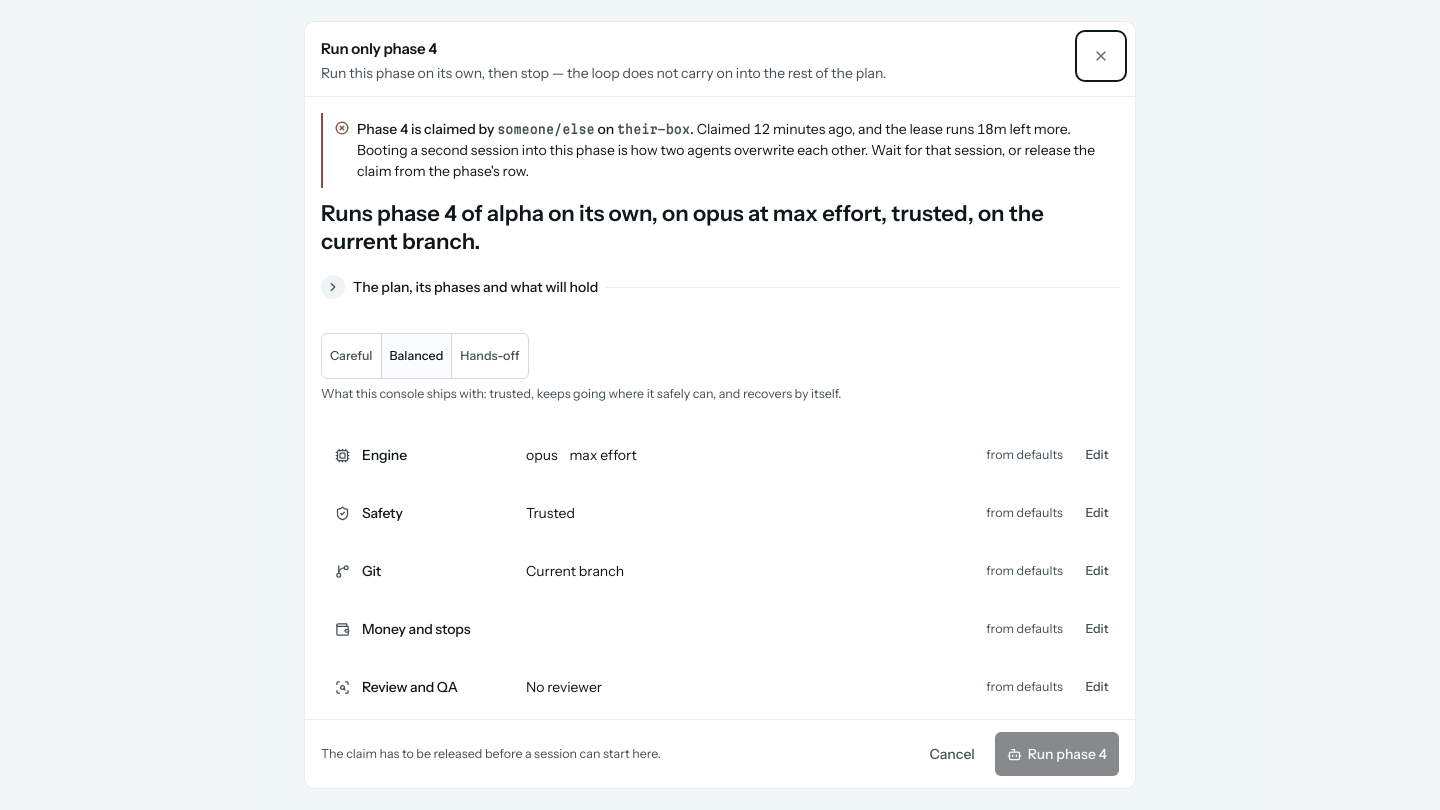
it: a claimed phase › refuses to submit, and says who holds it — whichever tile is open
Expected: the text "Phase 4 is claimed by someone/else on their-box." is shown, x1=357 y1=120 x2=694 y2=138
Expected: the text "someone/else" is shown, x1=497 y1=121 x2=595 y2=137
Click the button "Run phase 4": (1057, 754) x1=995 y1=732 x2=1119 y2=776
(page scrolled)
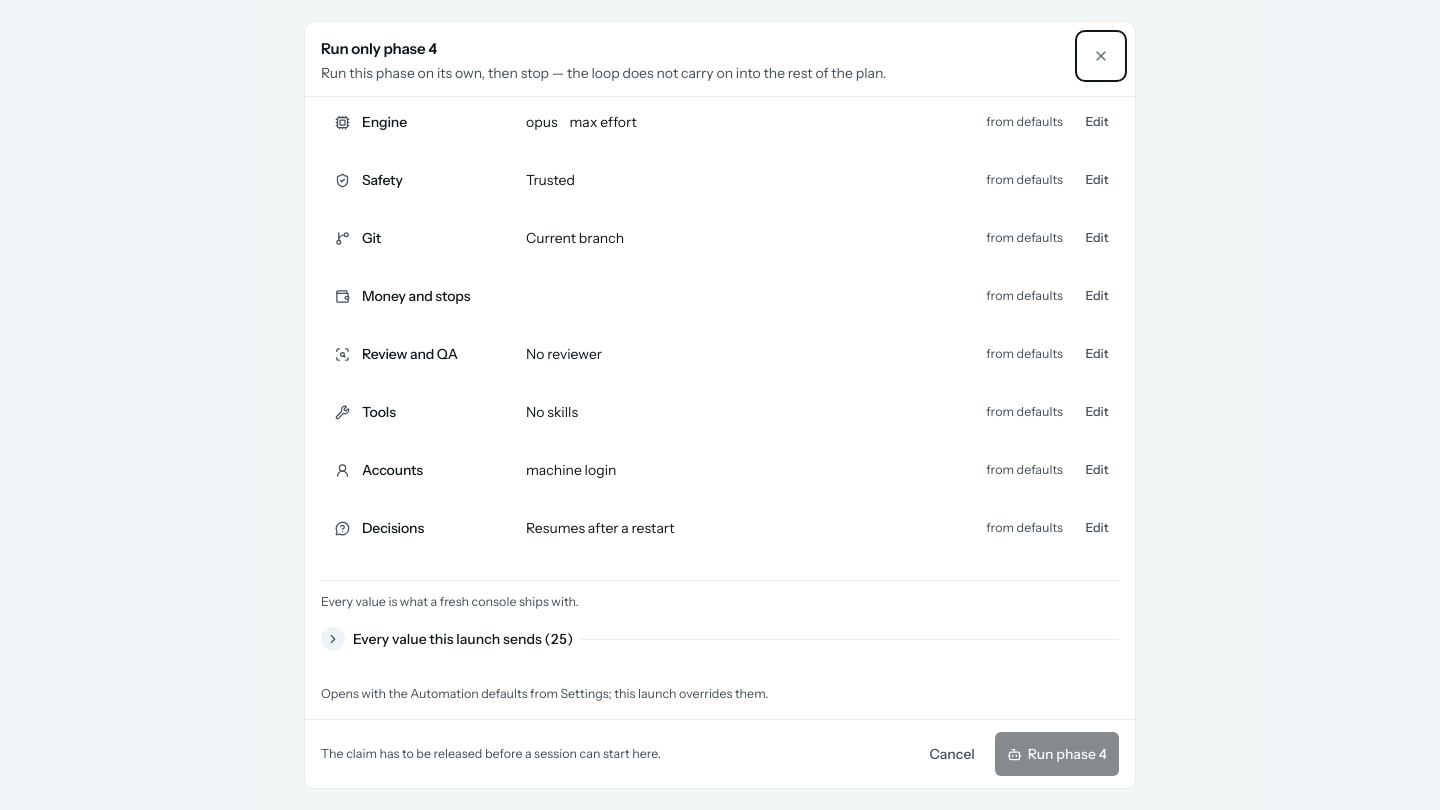
Click the button "Edit" in the row of "Resumes after a restart": (1097, 528) x1=1075 y1=506 x2=1119 y2=550
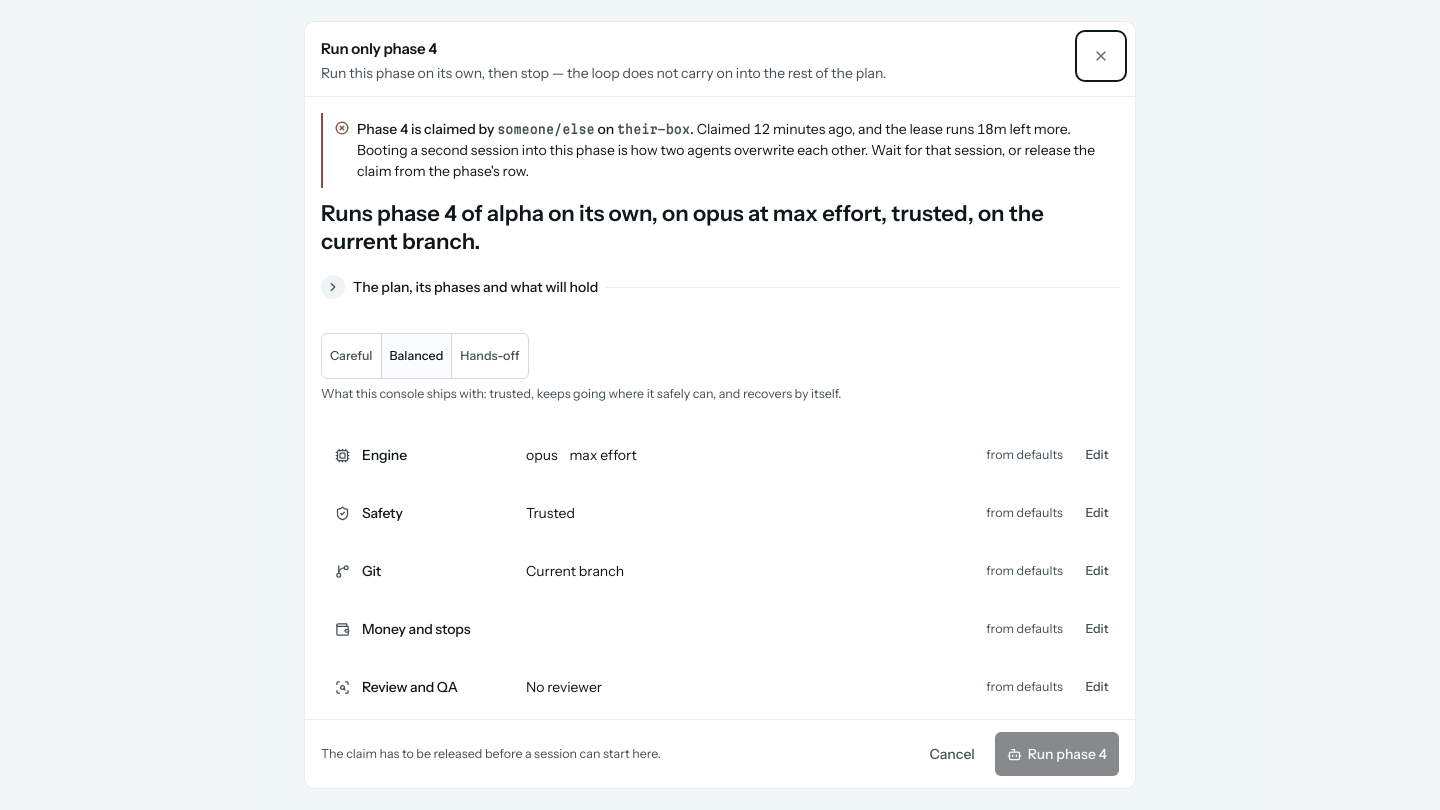
Expected: the button "Run phase 4" is disabled, x1=995 y1=732 x2=1119 y2=776
Expected: the text "Phase 4 is claimed by someone/else on their-box." is shown, x1=357 y1=120 x2=694 y2=138
